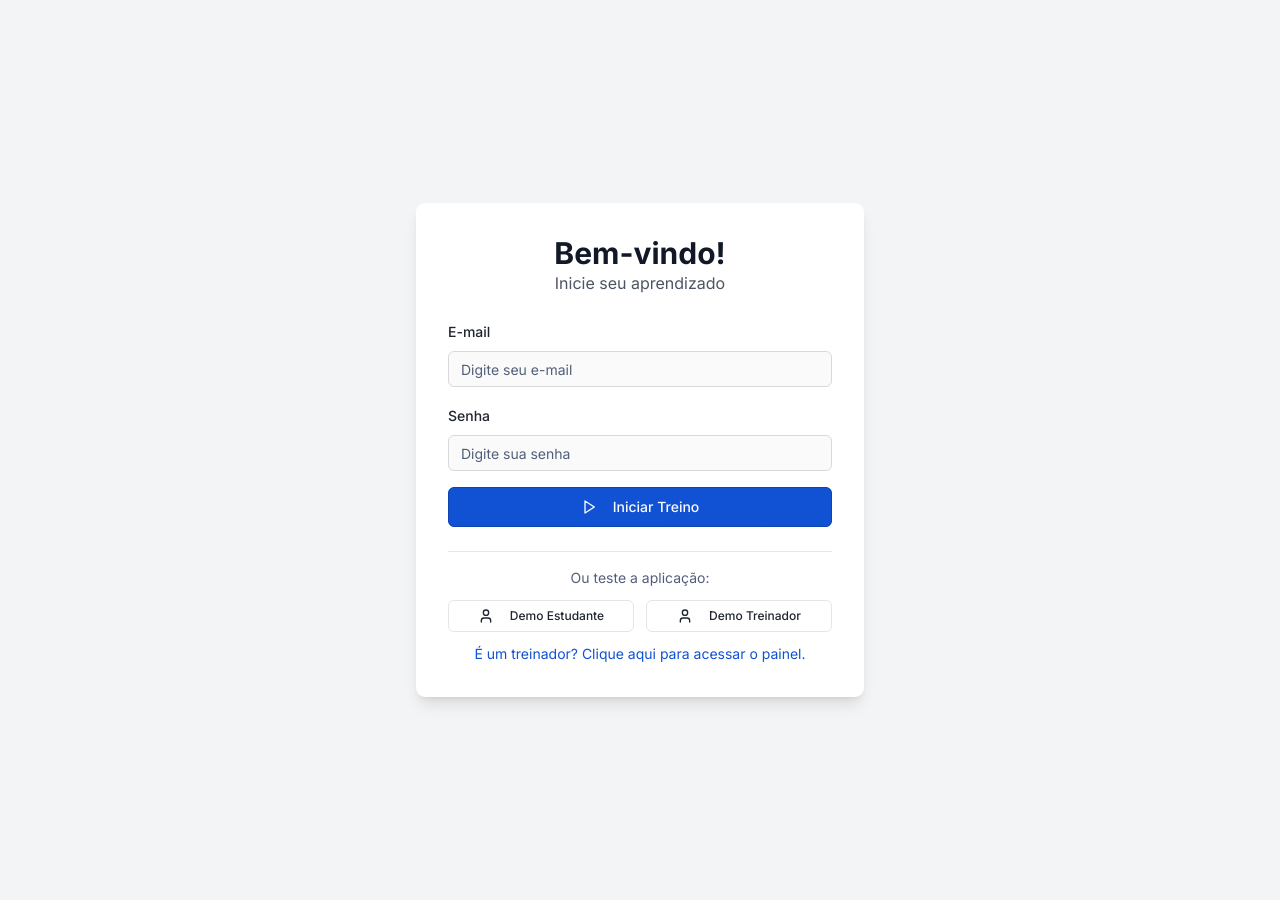
it: Athletica Pro App › allows demo student login
Click the button with test id "button-demo-student": (541, 616) [448,600,634,632]
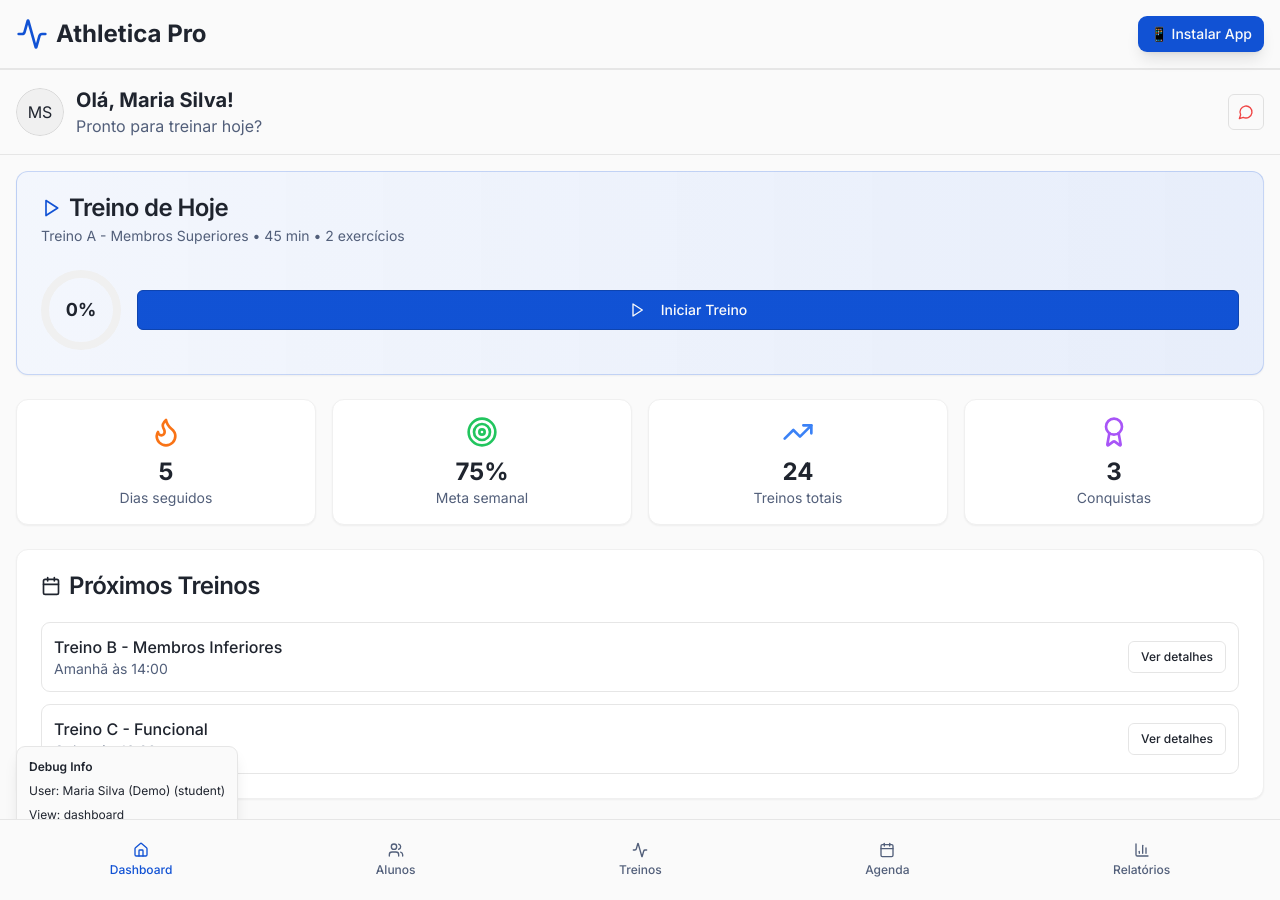
Check: the text "User: Maria Silva (Demo) (student)" is shown, box [29,783,225,799]
